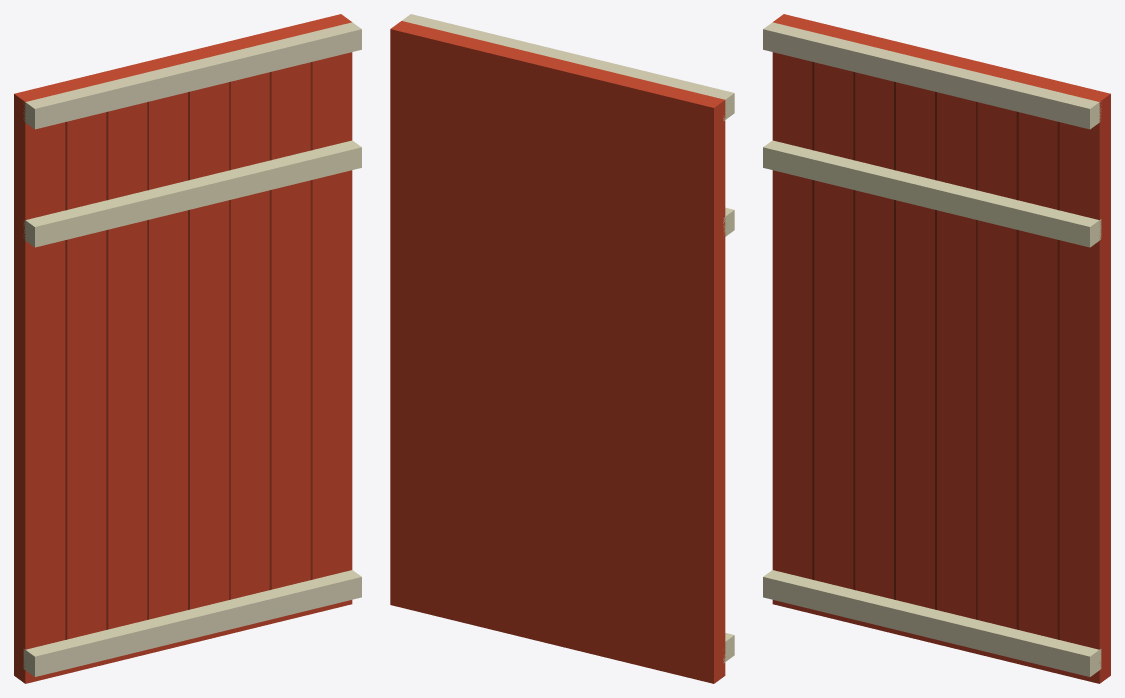
File: N01_Wall_2m.fbx
3 views of the same model, side by side, from view 1: azimuth 30°, elevation 25°; view 2: azimuth 150°, elevation 25°; view 3: azimuth 330°, elevation 25° (orthographic).
Visible parts, largest first — view 1: N01_Wall_2m.071; view 2: N01_Wall_2m.071; view 3: N01_Wall_2m.071.
Part boxes in pixels (left/top/right/bottom): N01_Wall_2m.071: left=14, top=14, right=361, bottom=683; N01_Wall_2m.071: left=390, top=14, right=734, bottom=683; N01_Wall_2m.071: left=763, top=14, right=1110, bottom=683.
Size of the model in its own units: 2 by 3.4 by 0.22.
